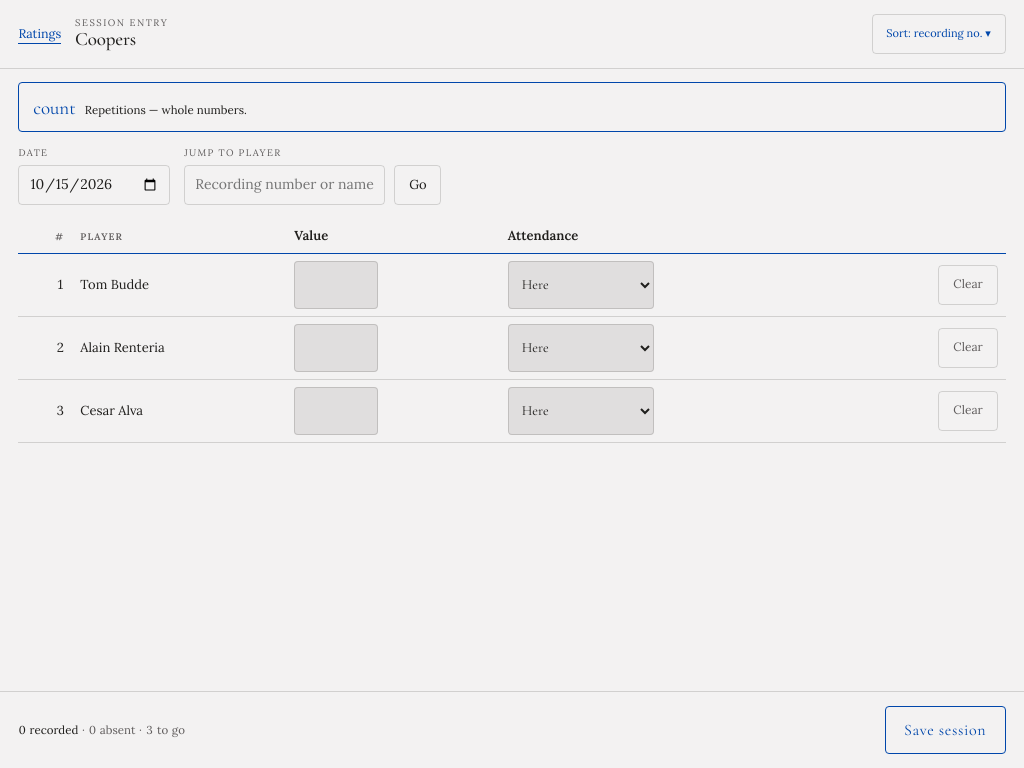
the jump box › passes on the reason a lookup was refused
Type "Alva" into the field labelled "Jump to player Go" at (285, 185), box [184,165,385,205]
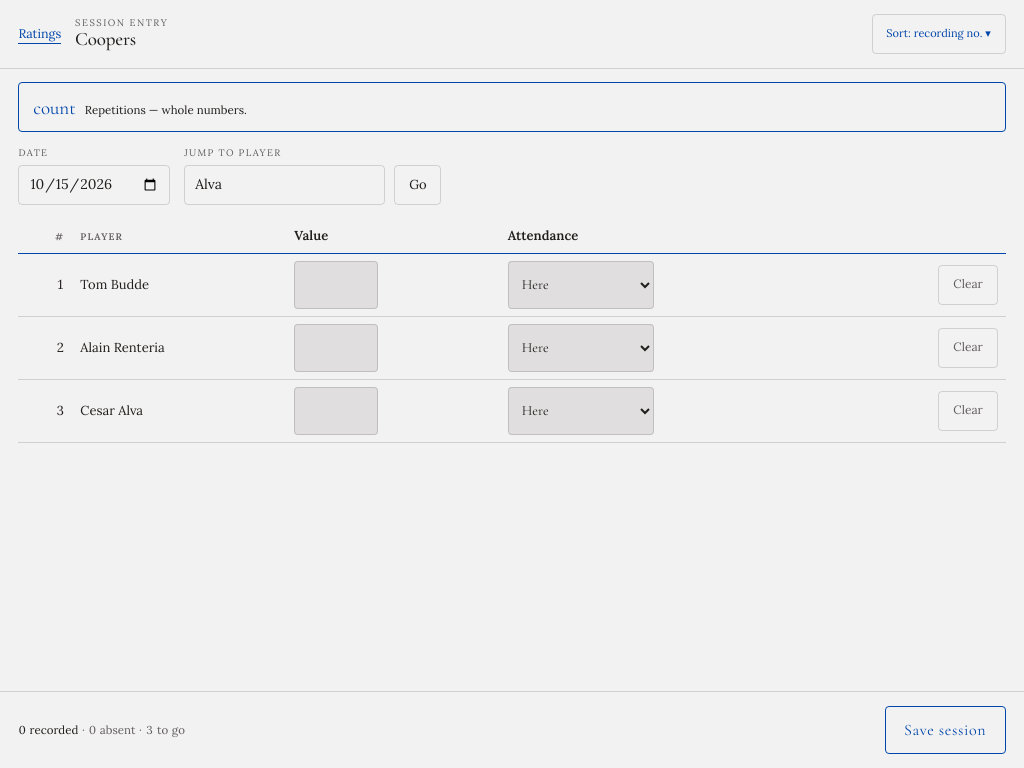
Click the button "Go" at (418, 185), box [394,165,442,205]
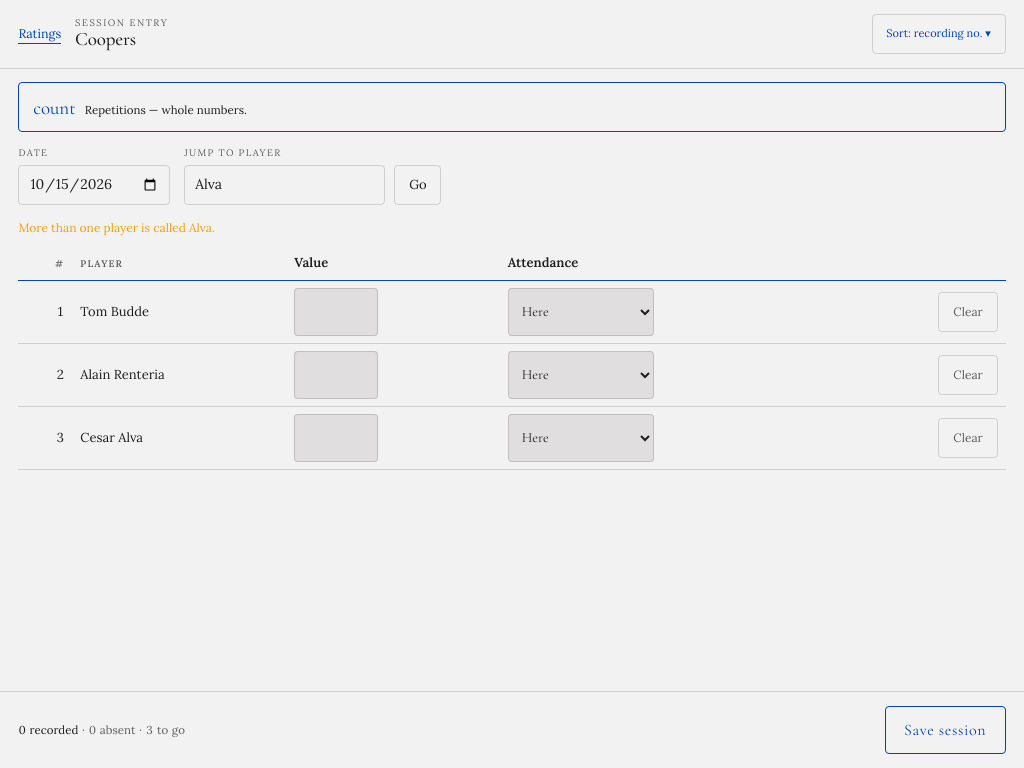
Result: the message "More than one player is called Alva." is shown at [18,220,215,234]
